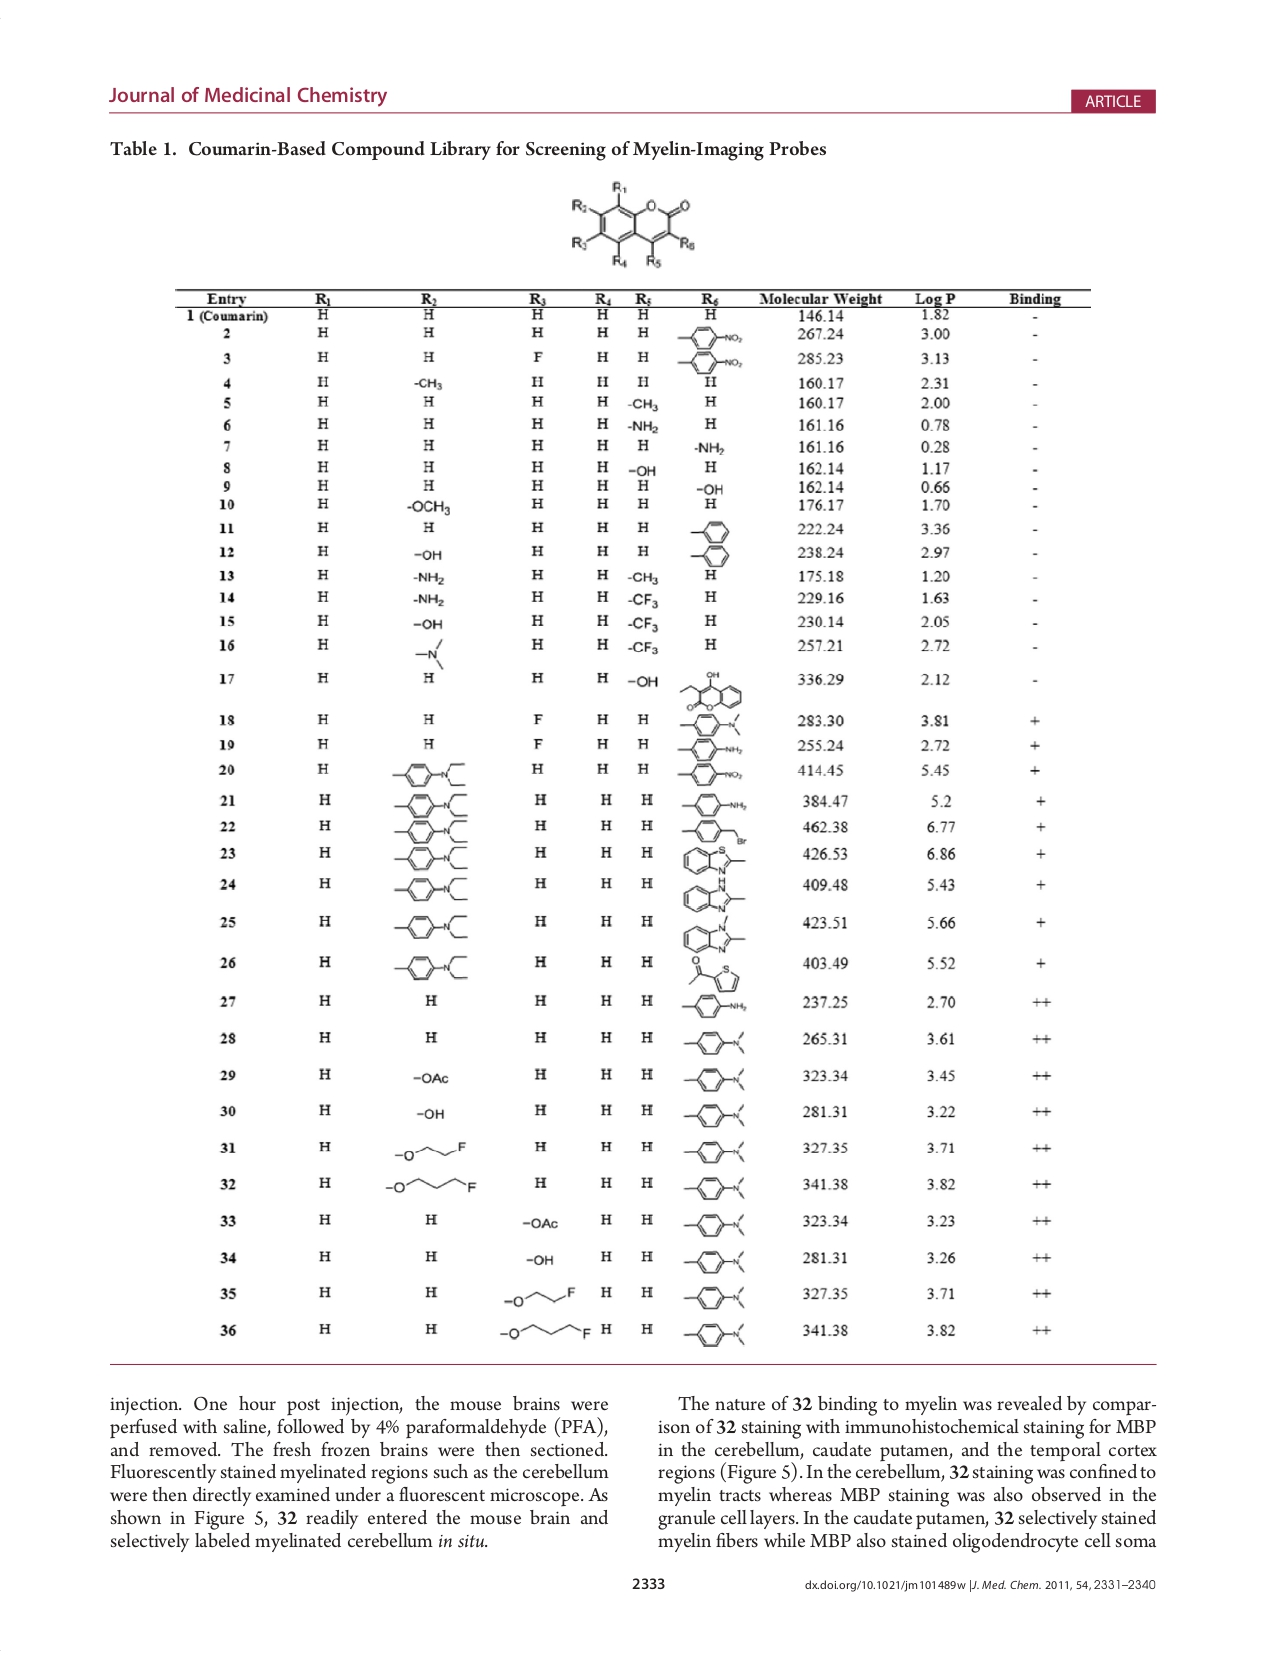exist_molecular: (567, 177, 697, 273), (680, 914, 750, 954), (388, 755, 468, 790), (677, 670, 743, 711), (676, 876, 747, 914), (382, 1172, 480, 1198), (392, 954, 473, 984), (497, 1319, 592, 1345), (392, 912, 473, 942), (682, 954, 741, 993), (392, 875, 469, 904), (390, 791, 469, 819), (390, 844, 472, 871), (676, 321, 743, 352), (678, 846, 749, 876), (390, 818, 469, 844), (501, 1283, 577, 1311), (681, 1321, 750, 1351), (680, 818, 749, 847), (681, 1028, 749, 1057), (681, 1173, 749, 1202), (680, 1101, 750, 1129), (392, 1138, 469, 1164), (676, 1138, 749, 1165), (682, 1210, 749, 1239), (680, 1067, 747, 1094), (681, 1285, 747, 1313), (676, 762, 743, 789), (680, 993, 747, 1020), (684, 1247, 747, 1275), (676, 737, 746, 762), (674, 351, 743, 376), (680, 793, 747, 818), (678, 711, 745, 737), (688, 516, 731, 544), (415, 634, 445, 668), (689, 545, 733, 568)
